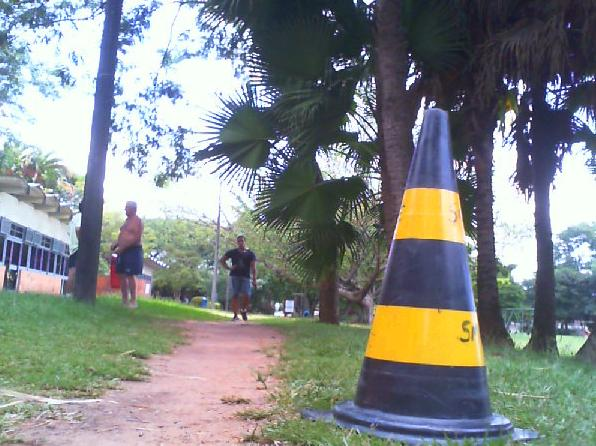0 cone: (302, 108, 544, 446)
